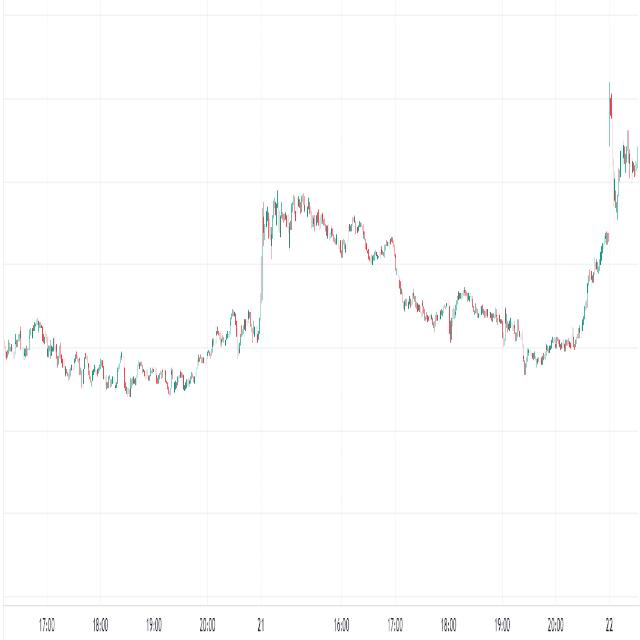Descending-Triangle: (255, 152, 439, 269)
Rounding-Bottom: (39, 303, 236, 408)
